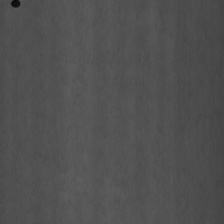punching_hole: (10, 0, 21, 9)
